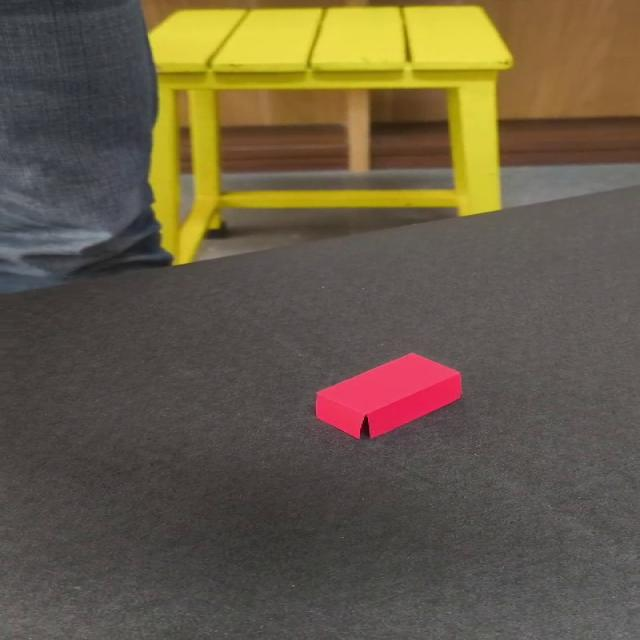red block: (313, 351, 463, 439)
